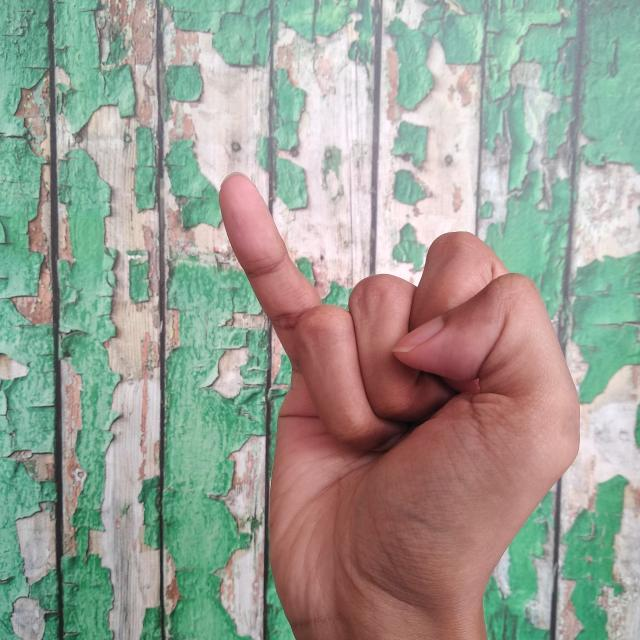I: (214, 170, 584, 640)
